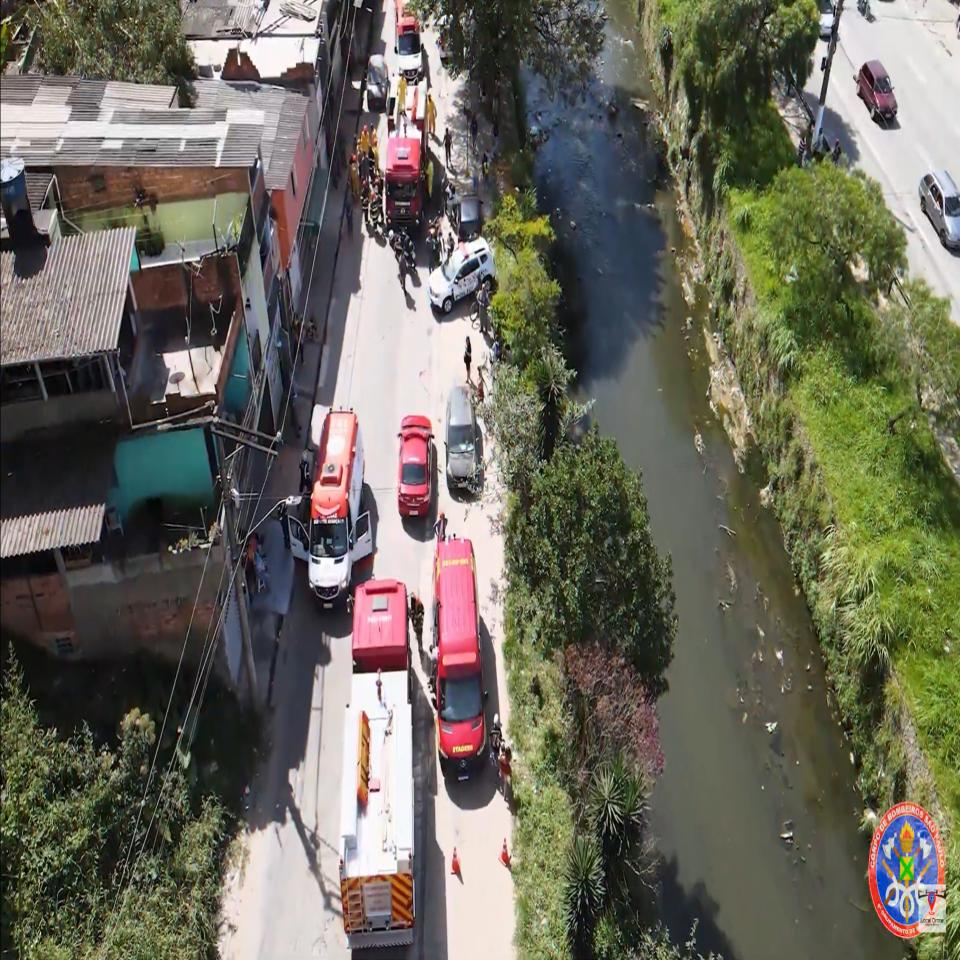viatura: (344, 577, 421, 959)
